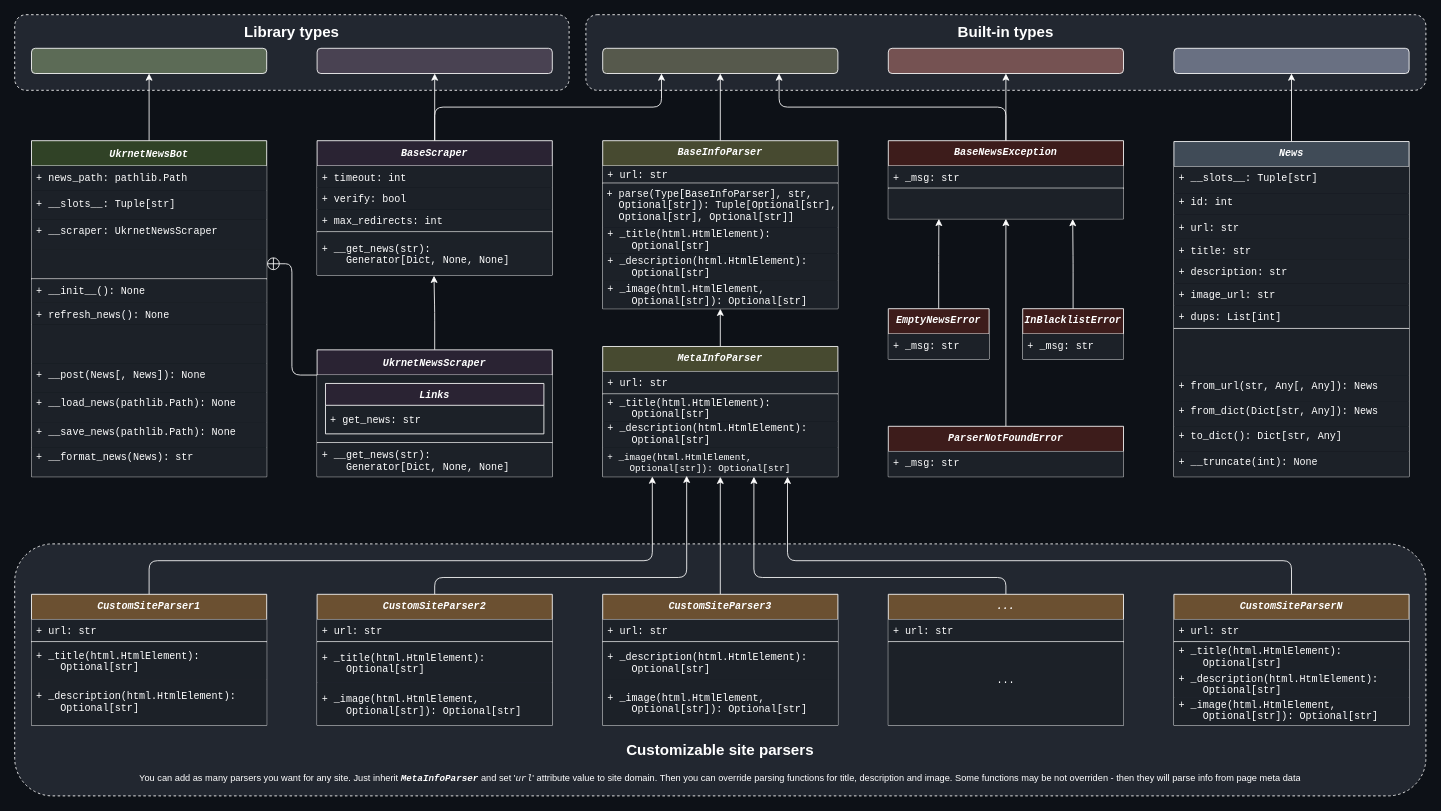
Image size: 1441x811. Some labels were removed from this diagram. Each missing label, with the centre of its shape:
+ __get_news(List[Dict[str, Any]]): Generator[News, None, None]: the point at 148,343
+ __init__(int, str, str, str, Optional[str], Optional[List[int]]): None: the point at 1291,351
+ __init__(str, Any[, Any]): None: the point at 1005,203
+ __news: List[Dist[str, Any]]: the point at 148,263
abc.ABC: the point at 720,60
aiogram.Bot: the point at 149,60
Exception: the point at 1005,60
Object: the point at 1291,60
requests.Session: the point at 434,60
